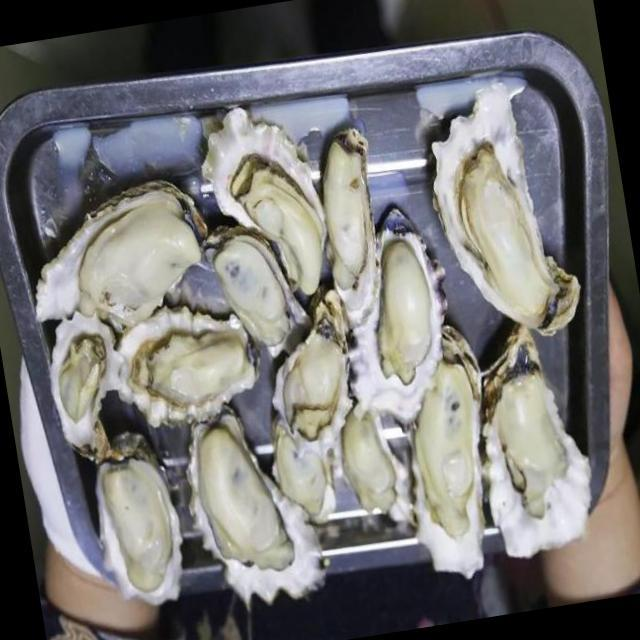Oyster-Open: (415, 72, 591, 351), (458, 310, 606, 568), (16, 166, 220, 342), (318, 202, 467, 442), (384, 316, 509, 590), (188, 96, 344, 314), (175, 400, 332, 614), (108, 295, 266, 432), (256, 293, 370, 468), (199, 211, 320, 375), (308, 120, 399, 337), (85, 448, 194, 616), (42, 304, 142, 466), (328, 392, 420, 543), (270, 402, 344, 534)
